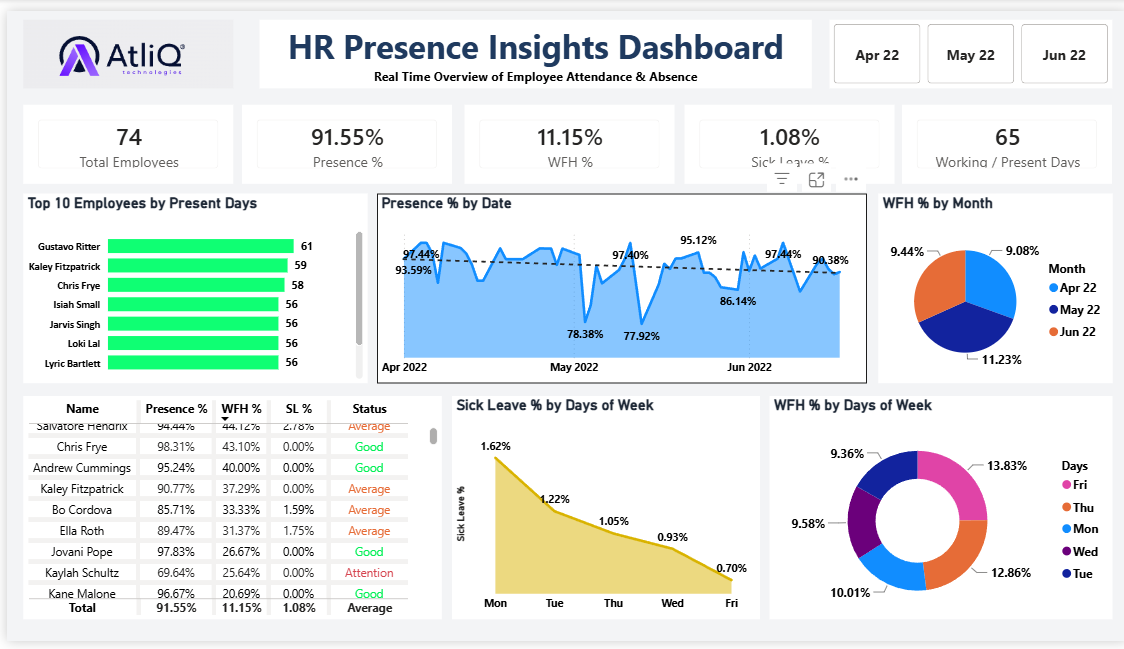

Layout of this report page (visuals, bound fields, positions):
{"tool":"powerbi","page":{"name":"Page 1","canvas":[1280,720],"ordinal":0},"visuals":[{"type":"cardVisual","fields":{"Data":["Measure Table.Presence %"]},"box":[268.3,106.7,240,90],"z":0},{"type":"advancedSlicerVisual","title":"Select Month","fields":{"Values":["Final Data.Month"]},"box":[940,10,323.3,78.3],"z":1000},{"type":"cardVisual","fields":{"Data":["Measure Table.WFH %"]},"box":[523.3,106.7,240,90],"z":2000},{"type":"cardVisual","fields":{"Data":["Measure Table.Sick Leave %"]},"box":[774,106.7,240,90],"z":3000},{"type":"tableEx","fields":{"Values":["Final Data.Name","Measure Table.Presence %","Measure Table.WFH %","Measure Table.Sick Leave %","Measure Table.Status"]},"box":[18.3,440,478.3,255],"z":4000},{"type":"areaChart","fields":{"Category":["Final Data.Date"],"Y":["Measure Table.Presence %"]},"box":[423.3,208.3,560,216.7],"z":5000},{"type":"pieChart","fields":{"Category":["Final Data.Month"],"Y":["Measure Table.WFH %"]},"box":[995,208.3,268.3,216.7],"z":6000},{"type":"areaChart","fields":{"Y":["Measure Table.Sick Leave %"],"Category":["Final Data.Days of Week"]},"box":[508.3,440,351.7,255],"z":7000},{"type":"donutChart","fields":{"Category":["Final Data.Days of Week"],"Y":["Measure Table.WFH %"]},"box":[871.7,440,391.7,255],"z":9000},{"type":"clusteredBarChart","title":"Top 10 Employees by Present Days","fields":{"Category":["Final Data.Name"],"Y":["Measure Table.Present Days"]},"box":[18.3,208.3,393.3,216.7],"z":10000},{"type":"cardVisual","fields":{"Data":["Count(Final Data.Employee Code)"]},"box":[18.3,106.7,240,90],"z":11000},{"type":"cardVisual","fields":{"Data":["Measure Table.Working Days / Present Days"]},"box":[1023.3,106.7,240,90],"z":12000},{"type":"image","box":[18.6,10,240,78.6],"z":13000},{"type":"textbox","box":[288.6,10,631.4,78.6],"z":14000}]}

Visuals, with their boxes in screenshot pixels (x1, y1, x2, y2), scaled from the page's 1280x720 canvas onto the 1124x649 screenshot:
cardVisual - Measure Table.Presence %: [236,96,446,177]
"Select Month" advancedSlicerVisual: [825,9,1109,80]
cardVisual - Measure Table.WFH %: [460,96,670,177]
cardVisual - Measure Table.Sick Leave %: [680,96,890,177]
tableEx - Final Data.Name x Measure Table.Presence %: [16,397,436,626]
areaChart - Final Data.Date x Measure Table.Presence %: [372,188,863,383]
pieChart - Final Data.Month x Measure Table.WFH %: [874,188,1109,383]
areaChart - Measure Table.Sick Leave % x Final Data.Days of Week: [446,397,755,626]
donutChart - Final Data.Days of Week x Measure Table.WFH %: [765,397,1109,626]
"Top 10 Employees by Present Days" clusteredBarChart: [16,188,361,383]
cardVisual - Count(Final Data.Employee Code): [16,96,227,177]
cardVisual - Measure Table.Working Days / Present Days: [899,96,1109,177]
image: [16,9,227,80]
textbox: [253,9,808,80]
